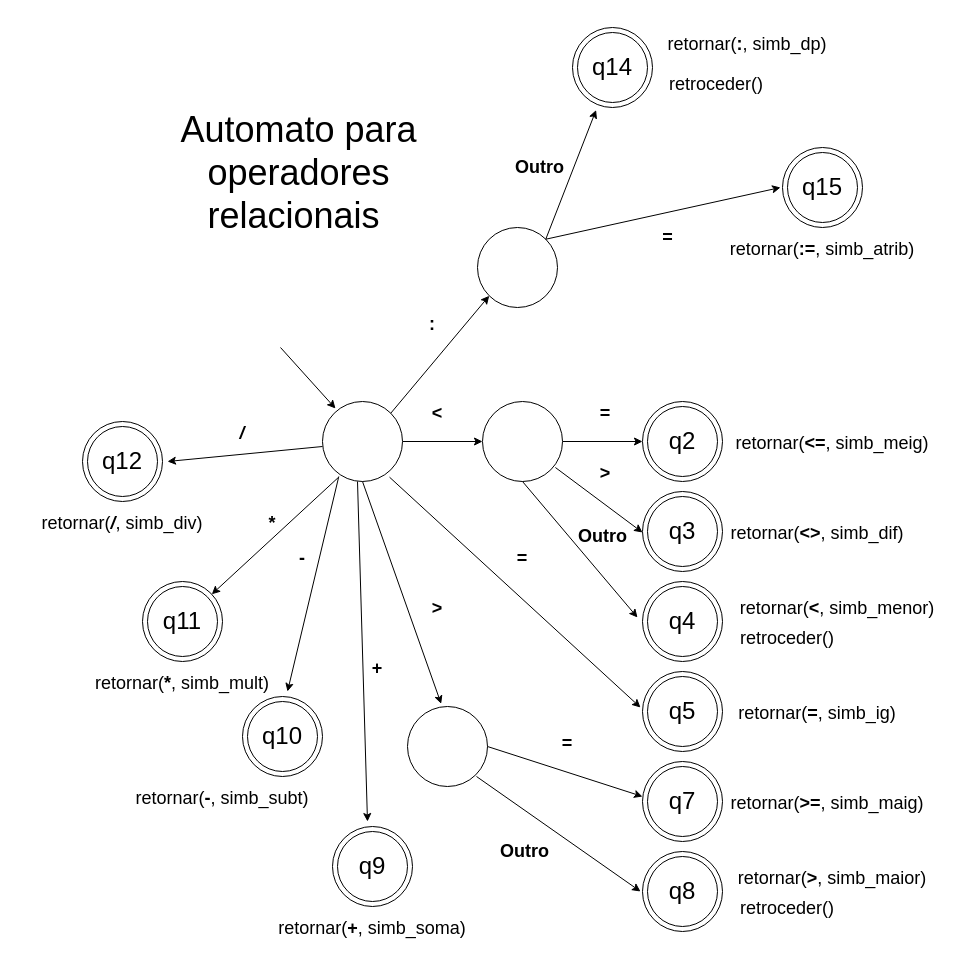
The diagram is 954 pixels wide and 968 high, and some of its shapes have lost their labels. Each missing label, with the centre of its shape:
q0: pixel 362 441
q1: pixel 522 441
q13: pixel 517 267
q6: pixel 447 746
